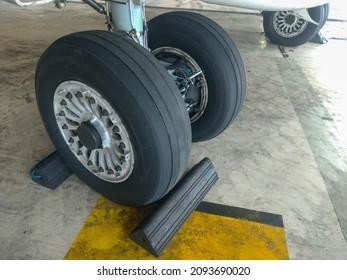chock: (129, 156, 220, 258), (29, 141, 94, 190), (309, 31, 329, 46)
wheel: (33, 33, 184, 204), (142, 11, 245, 143), (263, 4, 327, 46)
